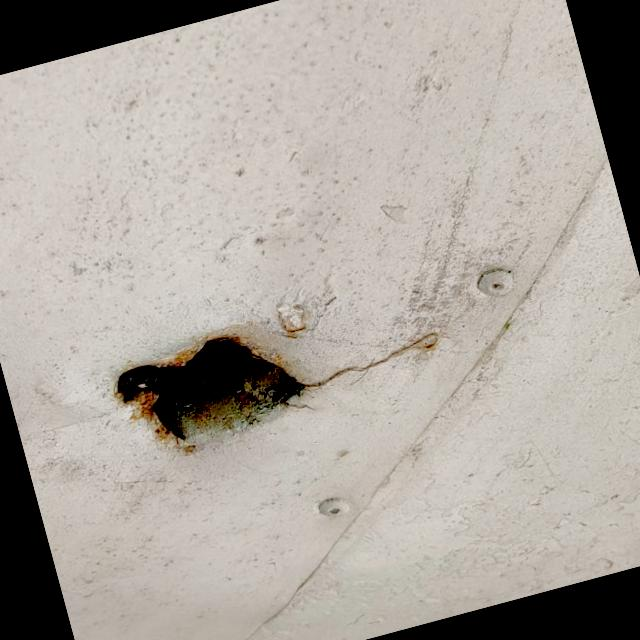crack: (82, 246, 468, 484)
